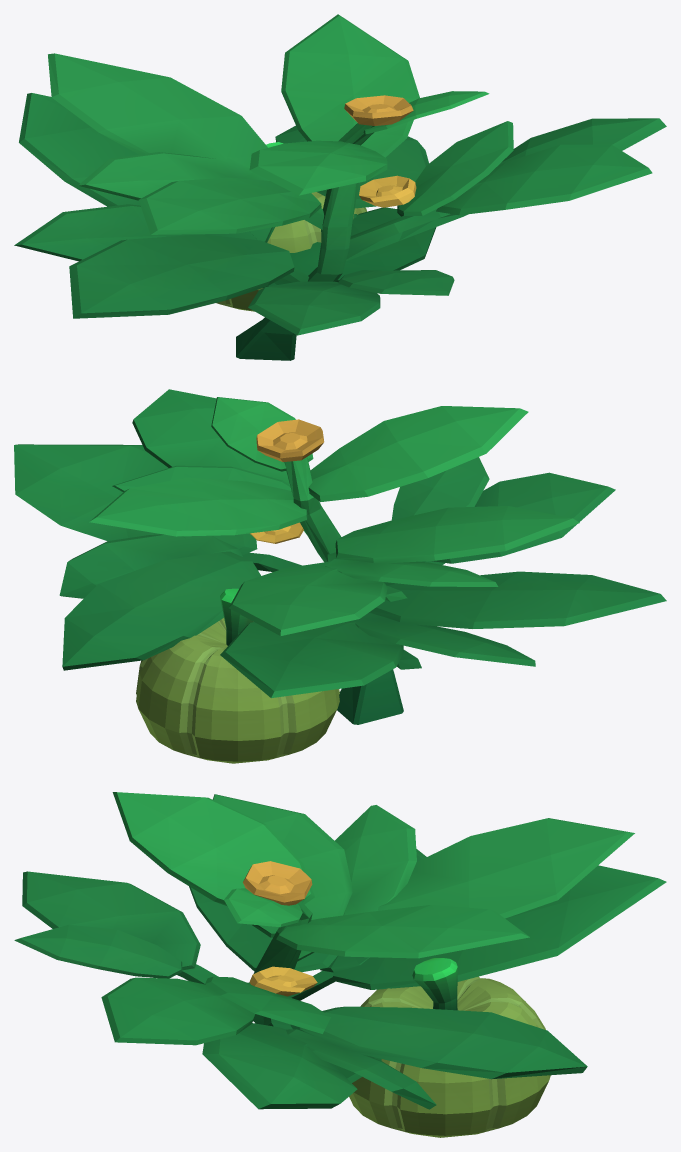
File: crop_pumpkin_stage2.glb
The picture shows the model from 3 angles, top to bottom: view 1: azimuth 30°, elevation 25°; view 2: azimuth 150°, elevation 25°; view 3: azimuth 270°, elevation 25°; orthographic projection. The views are drawn at different scales.
Parts seen in each view (by area): view 1: crop_pumpkin_stage2; view 2: crop_pumpkin_stage2; view 3: crop_pumpkin_stage2.
Part boxes in pixels (x1=…): crop_pumpkin_stage2: x1=14, y1=14, x2=666, y2=360; crop_pumpkin_stage2: x1=14, y1=389, x2=666, y2=763; crop_pumpkin_stage2: x1=14, y1=792, x2=666, y2=1137.
Size of the model in its own units: 0.64 by 0.24 by 0.5566.
Materials: 1 (1 with a texture image).
